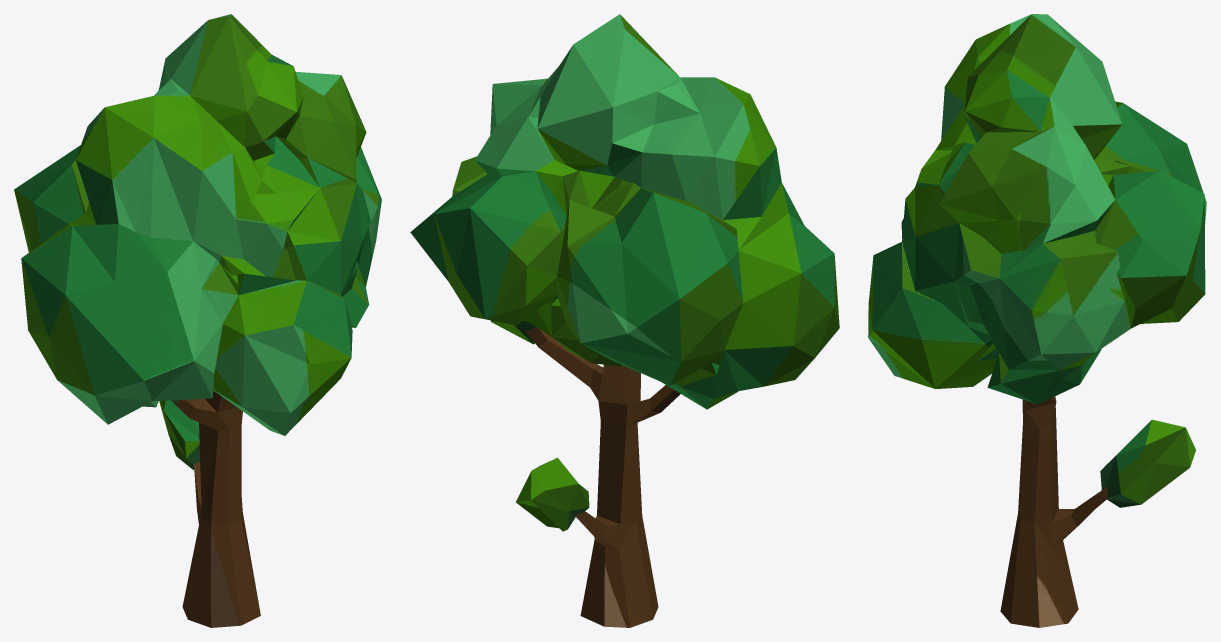
File: tree4-transformed.glb
3 views of the same model, side by side, from view 1: azimuth 30°, elevation 25°; view 2: azimuth 150°, elevation 25°; view 3: azimuth 270°, elevation 25° (orthographic).
Parts seen in each view (by area): view 1: _4_tree__4_tree_0; view 2: _4_tree__4_tree_0; view 3: _4_tree__4_tree_0.
Part boxes in pixels (box(x1,y1,x2,y2)): _4_tree__4_tree_0: box(14, 14, 381, 627); _4_tree__4_tree_0: box(410, 14, 839, 627); _4_tree__4_tree_0: box(868, 14, 1206, 627).
Size of the model in its own units: 1.1 by 1.8 by 0.9208.
Materials: 1 (1 with a texture image).
